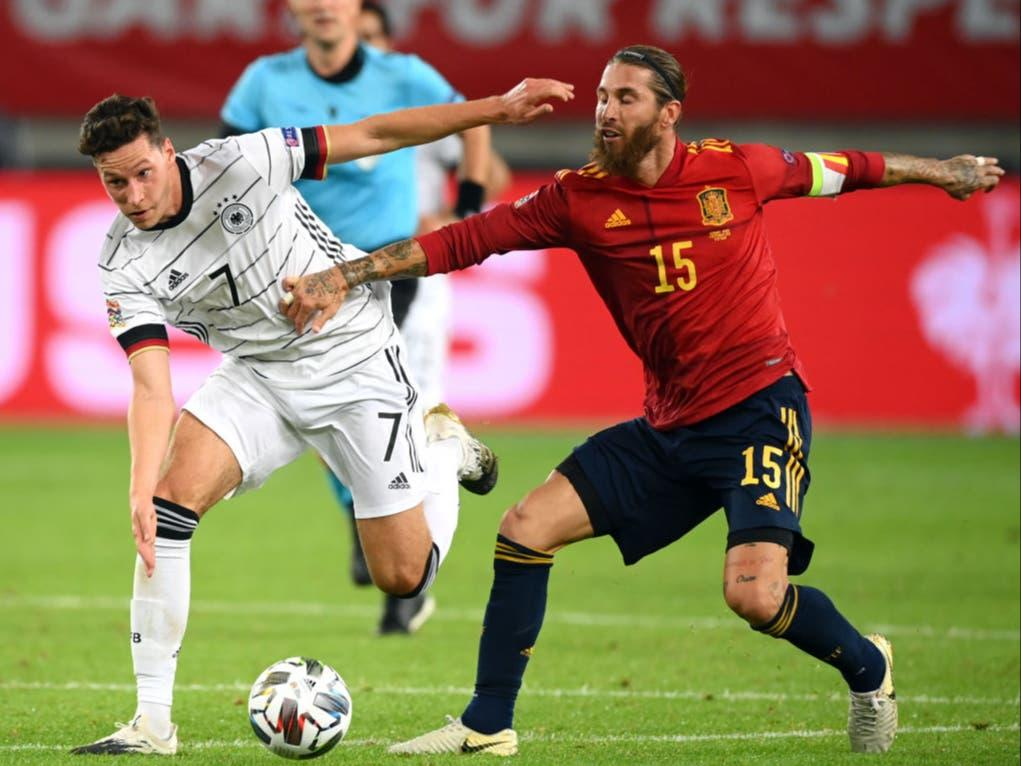ballon_football: (247, 656, 353, 761)
